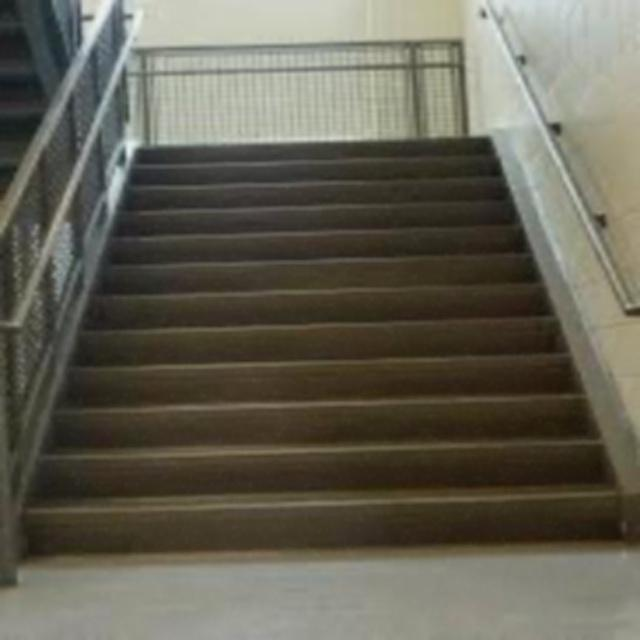stair: (134, 126, 511, 560)
